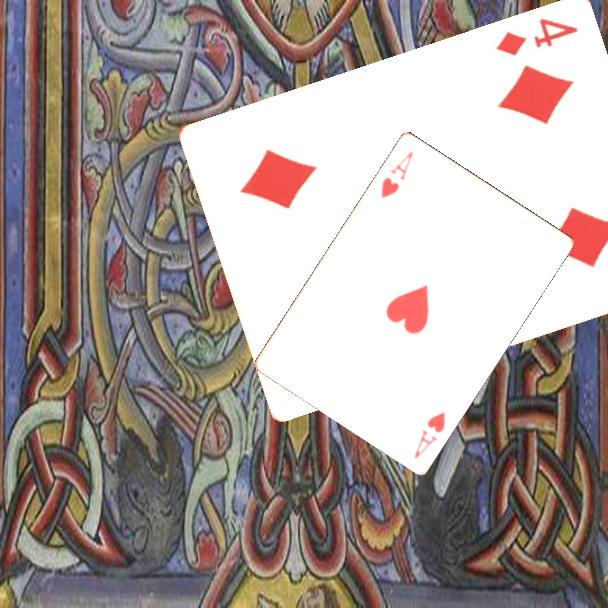d04: (493, 14, 581, 58)
h01: (377, 147, 416, 200), (411, 408, 448, 461)
